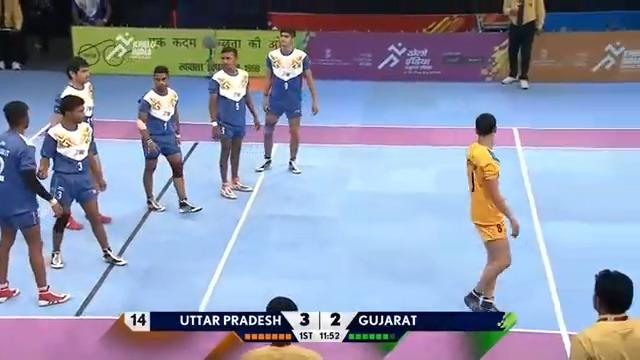Player: (0, 99, 70, 307), (36, 55, 112, 230), (135, 64, 202, 213), (254, 28, 319, 174), (207, 46, 260, 199)
Raider: (463, 112, 520, 312)
referee: (568, 268, 639, 359), (500, 0, 545, 89)
